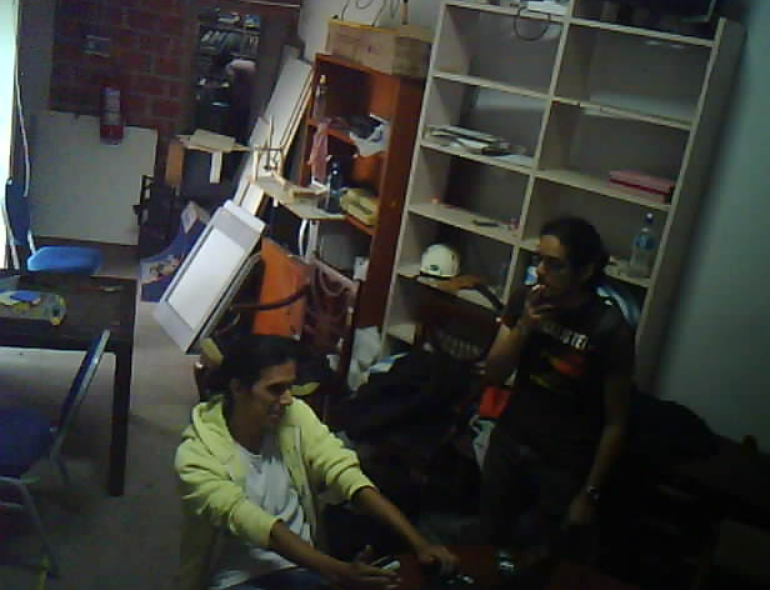person: (142, 330, 478, 590), (456, 186, 648, 572), (198, 24, 277, 134)
